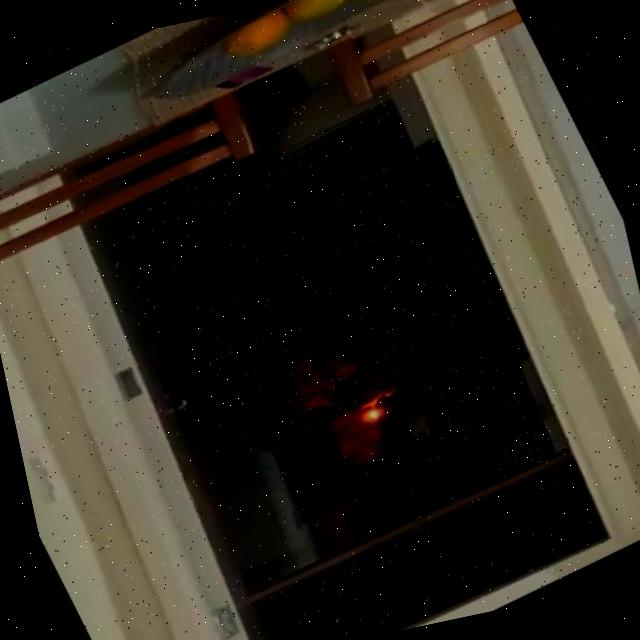fire: (356, 401, 392, 431)
